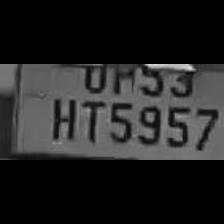3: (168, 64, 194, 98)
5: (102, 96, 134, 144), (162, 100, 190, 150), (137, 64, 167, 98)
7: (189, 103, 219, 153)
9: (134, 100, 162, 146)
H: (46, 92, 78, 142)
P: (108, 64, 136, 96)
T: (78, 95, 104, 145)
U: (76, 64, 108, 92)
